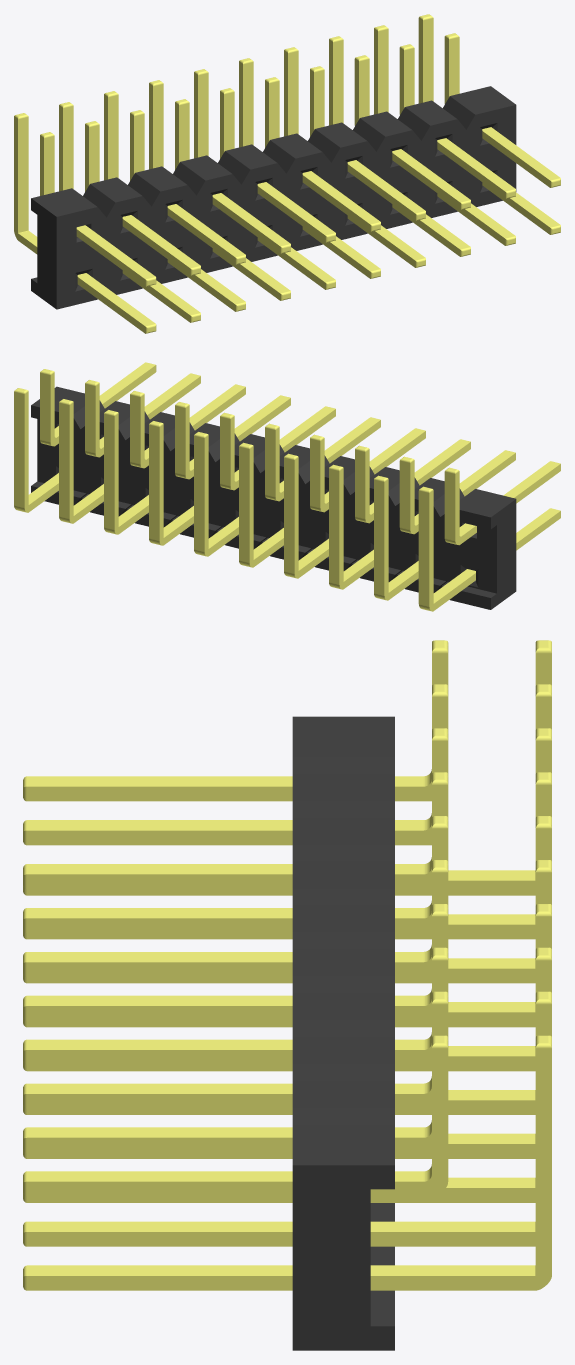
Rendered from 20 pin connector_part2.obj.
3 views of the same model, one above another, from view 1: azimuth 30°, elevation 25°; view 2: azimuth 150°, elevation 25°; view 3: azimuth 270°, elevation 25° (orthographic). The views are drawn at different scales.
Parts seen in each view (by area): view 1: 20_pin_connector_part2; view 2: 20_pin_connector_part2; view 3: 20_pin_connector_part2.
Boxes of the visible parts, box(x1,y1,x2,y2) form: 20_pin_connector_part2: box(14, 14, 560, 333); 20_pin_connector_part2: box(14, 362, 560, 611); 20_pin_connector_part2: box(23, 640, 551, 1350).
Size of the model in its own units: 0.0184 by 0.00544 by 0.00918.
